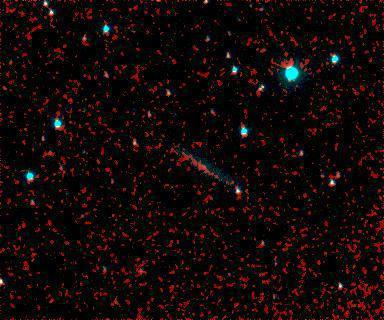star: (160, 45, 190, 75)
